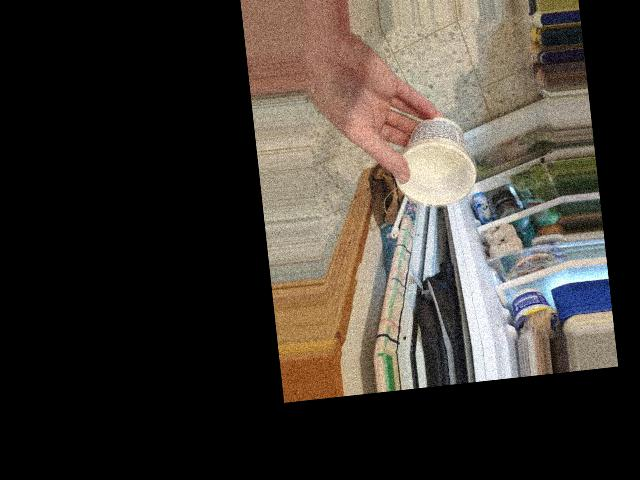cotage: (399, 114, 477, 205)
